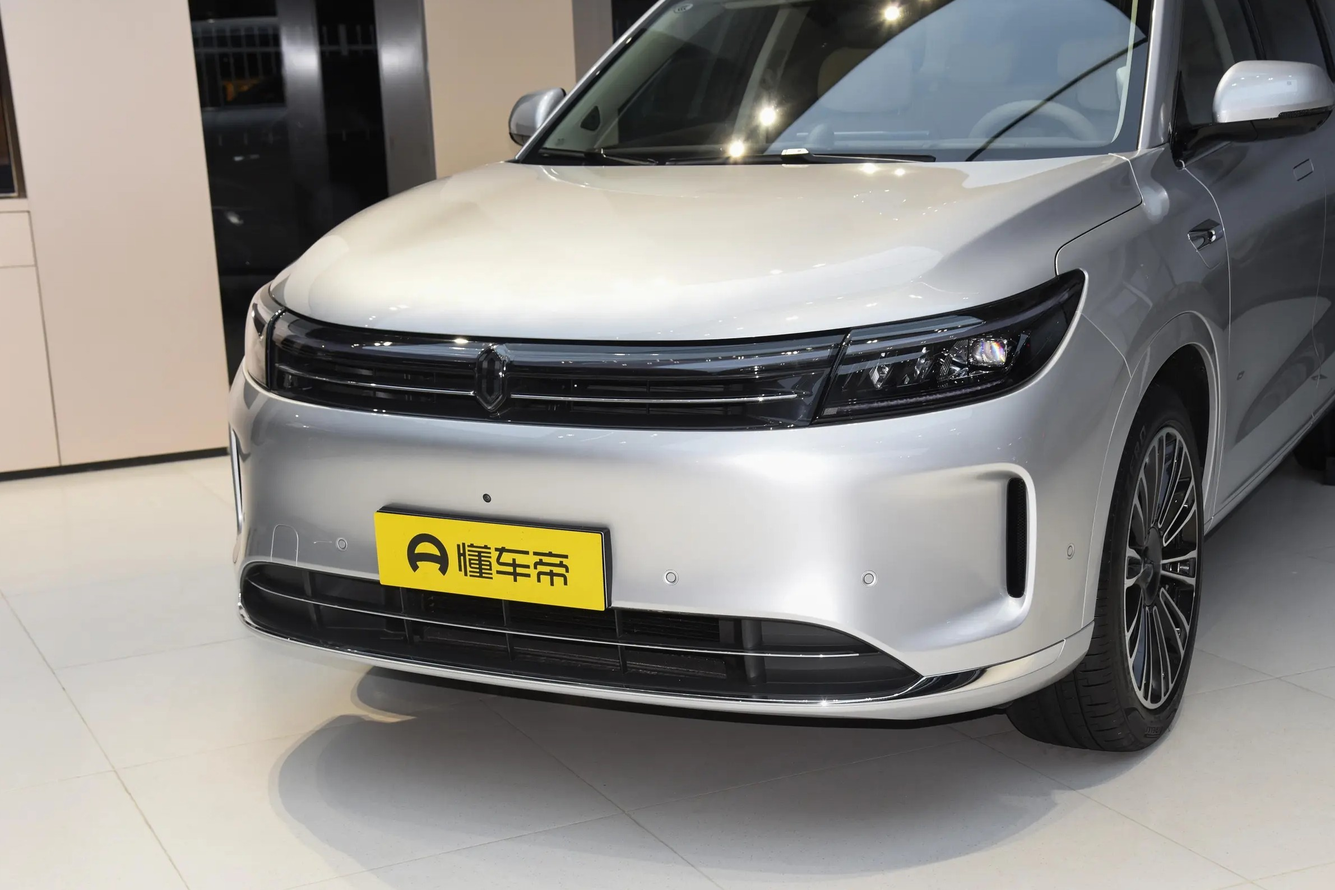AITO: (483, 353, 499, 399)
